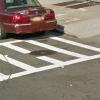Crosswalk: (3, 38, 100, 81)
